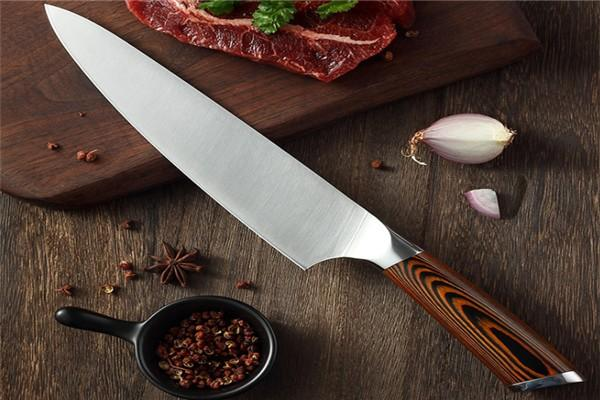knife: (17, 3, 589, 390)
